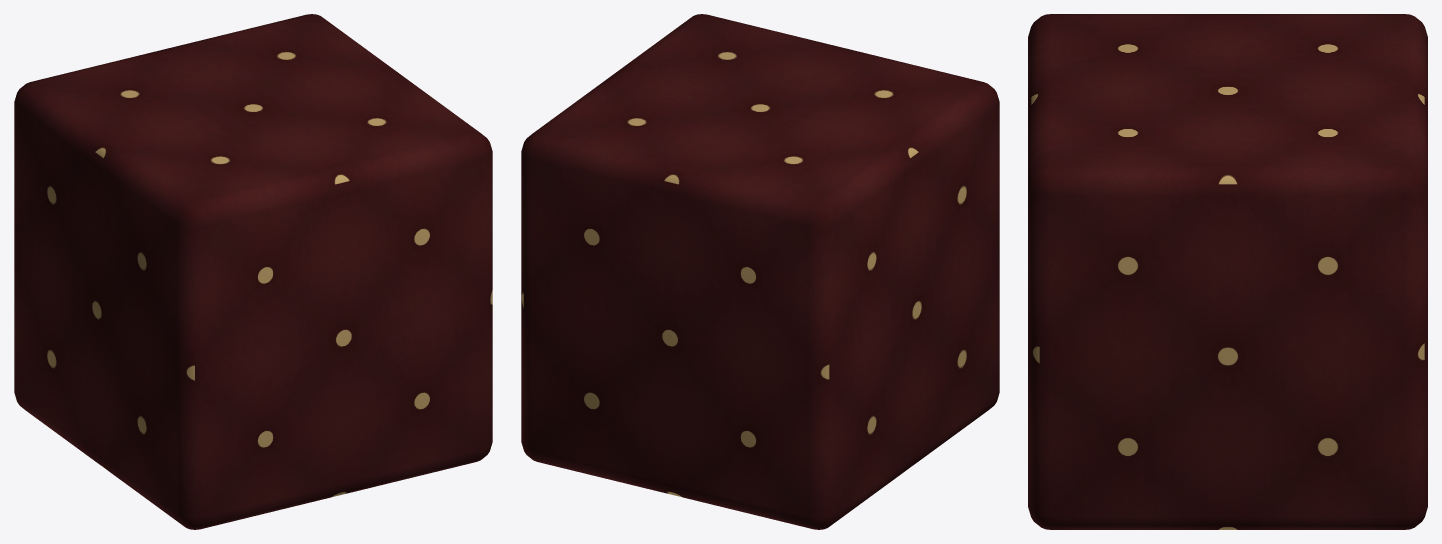
File: cushion_blender.fbx
3 views of the same model, side by side, from view 1: azimuth 30°, elevation 25°; view 2: azimuth 150°, elevation 25°; view 3: azimuth 270°, elevation 25° (orthographic). The views are drawn at different scales.
Parts seen in each view (by area): view 1: cushion; view 2: cushion; view 3: cushion.
Part boxes in pixels (left/top/right/bottom): cushion: left=14, top=14, right=492, bottom=529; cushion: left=521, top=14, right=999, bottom=529; cushion: left=1028, top=14, right=1427, bottom=529.
Size of what is drawn, in the model's own units: 38.17 by 38.17 by 38.17.
Materials: 1 (1 with a texture image).
